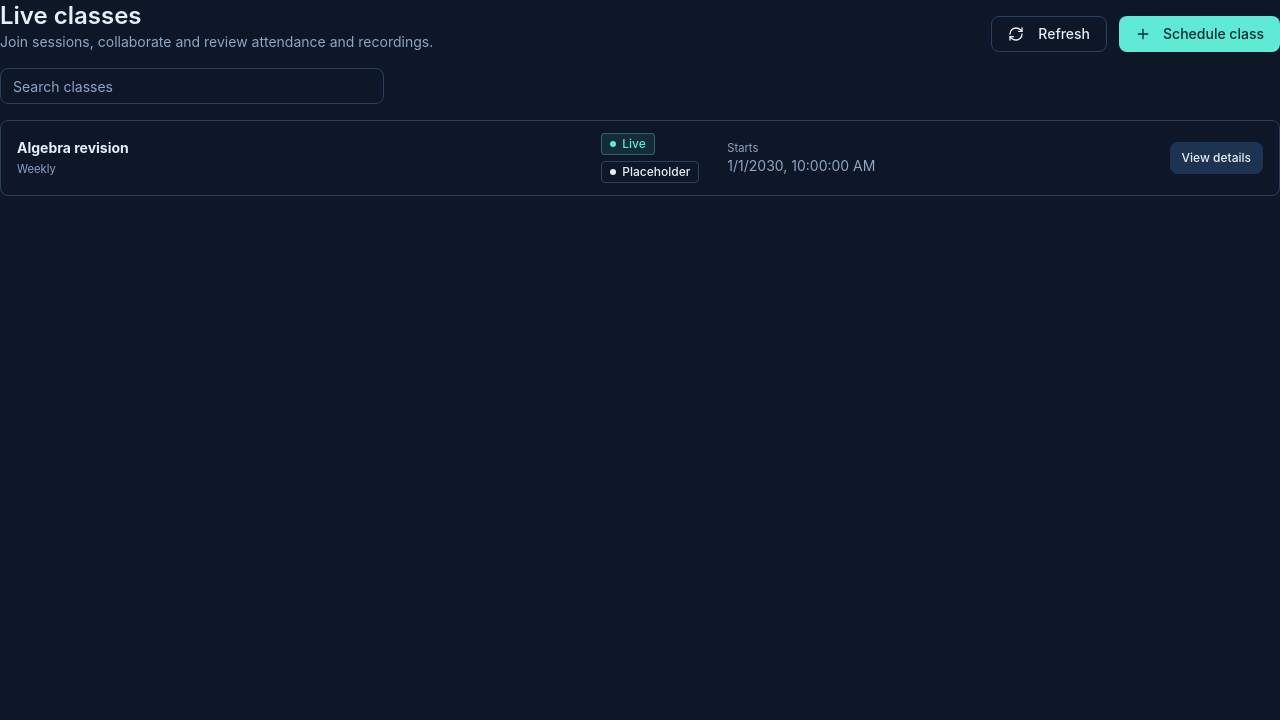
Test: LiveClassesPage › closing a class › shows the server message when closing fails
Click the button with aria-label "View details for Algebra revision" at {"x": 1216, "y": 158}, box [1170,142,1263,174]
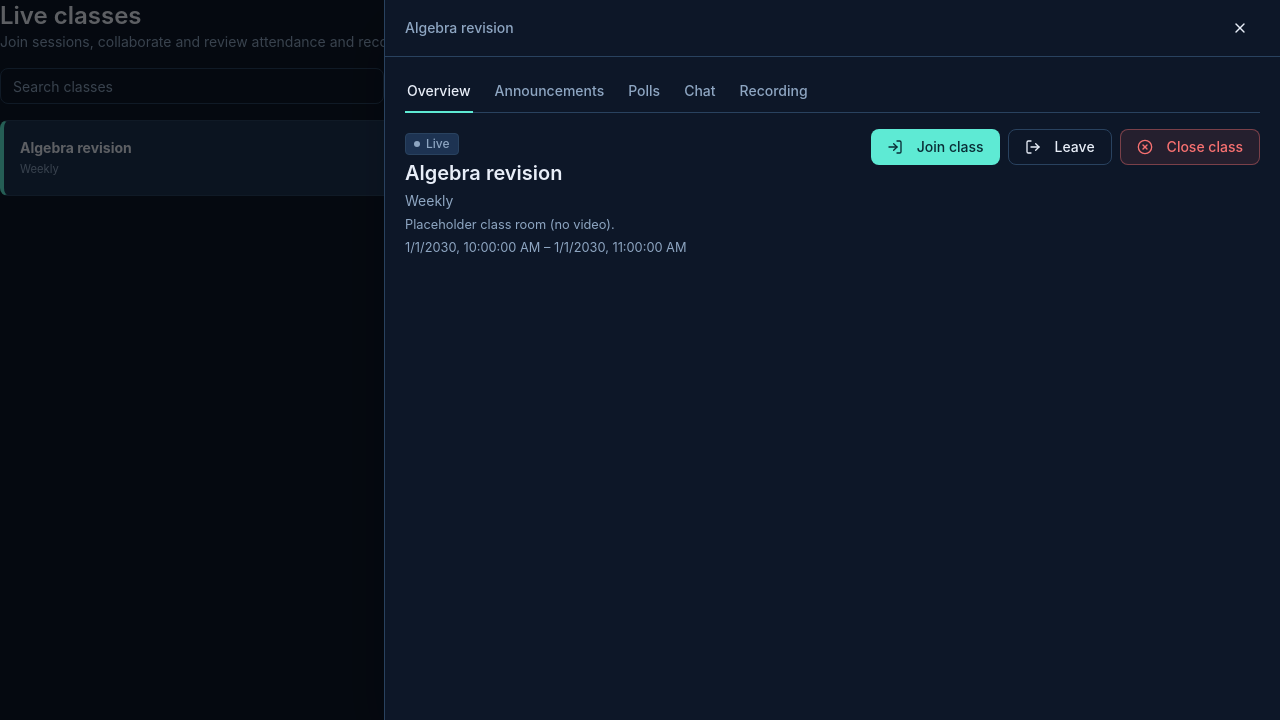
Click the button "Close class" at {"x": 1190, "y": 147}, box [1120,129,1260,165]
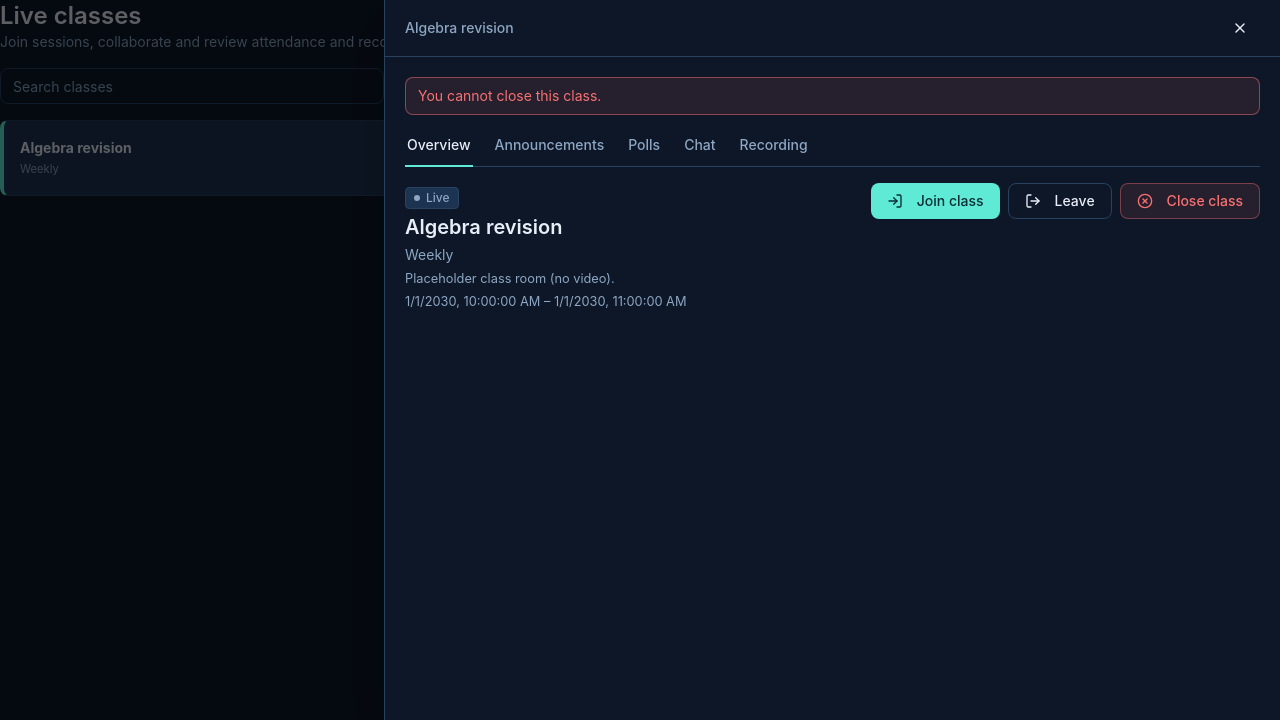
Now the button "Join class" is shown, box [871,183,1000,219]
Now the message reads "You cannot close this class.", box [418,87,601,104]
